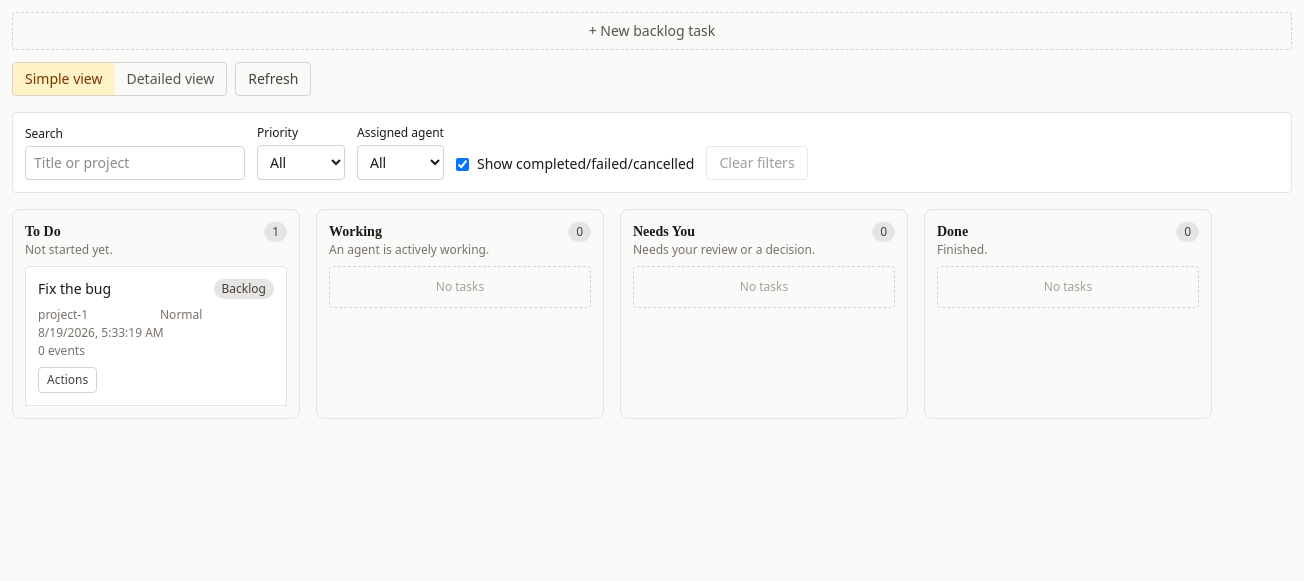
KanbanBoard › a card mid-operation cannot start a second mutation (pending lock)
Expected: the button "Fix the bug" is shown, [38, 279, 206, 299]
Click the button "Actions" at [68, 380], box [38, 367, 97, 393]
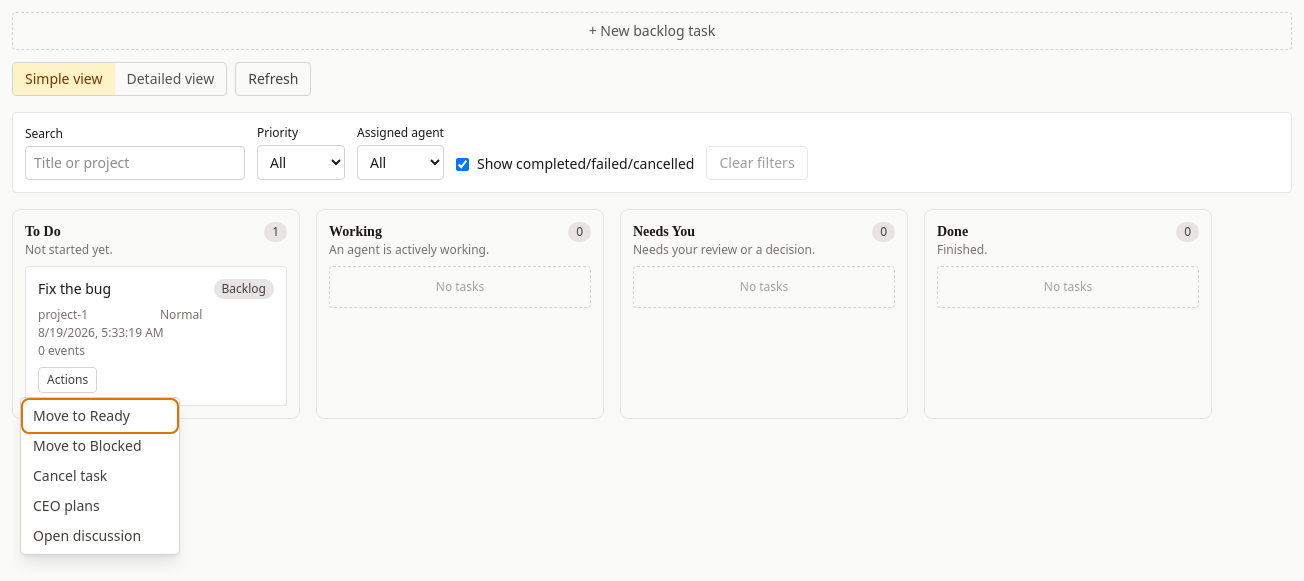
Click the button "Move to Ready" at [100, 416], box [25, 402, 175, 430]
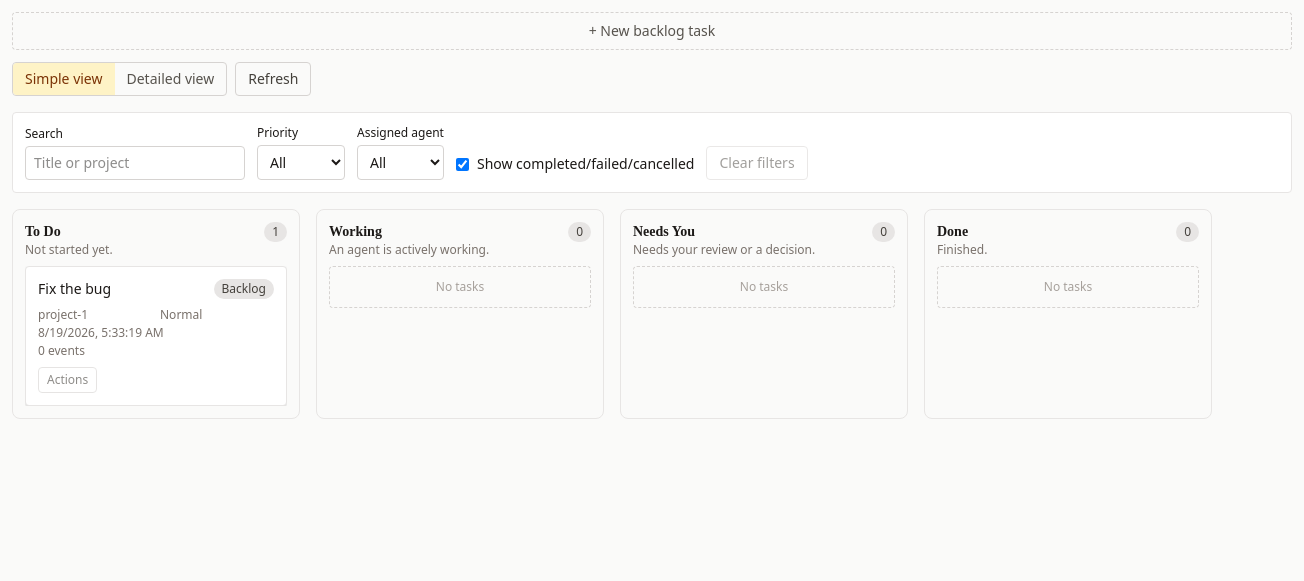
Expected: the button "Actions" is disabled, [38, 367, 97, 393]
